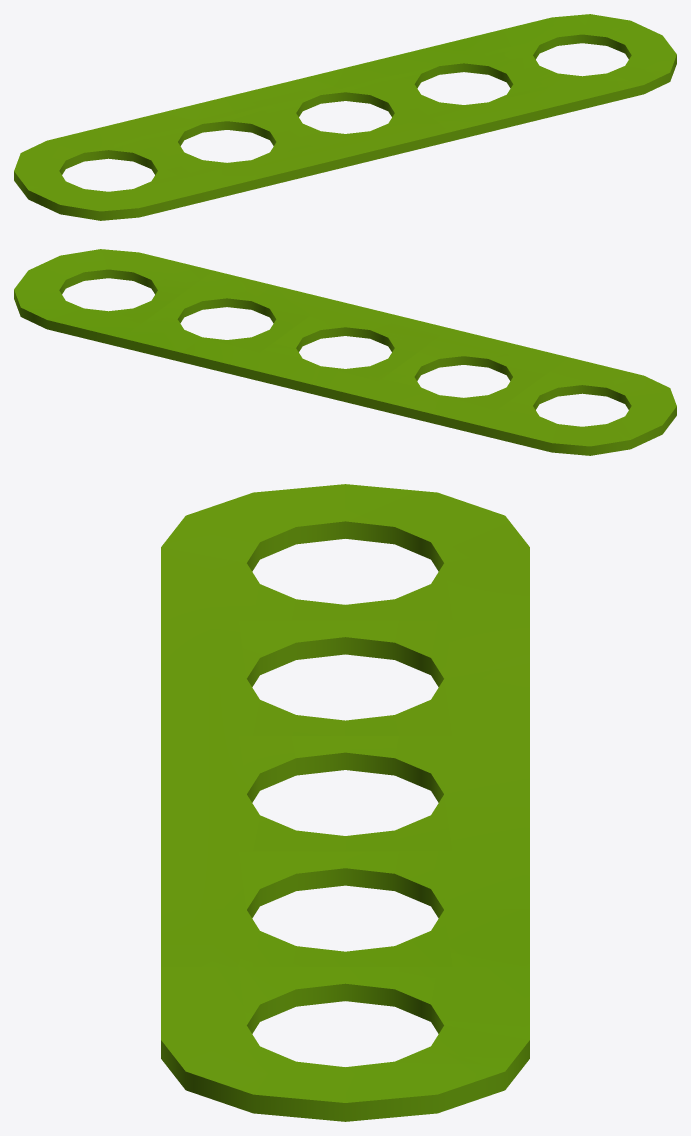
The model's file is FiveLongGreen.fbx.
3 views of the same model, one above another, from view 1: azimuth 30°, elevation 25°; view 2: azimuth 150°, elevation 25°; view 3: azimuth 270°, elevation 25° (orthographic). The views are drawn at different scales.
Visible parts, largest first — view 1: Blue5; view 2: Blue5; view 3: Blue5.
Part boxes in pixels (x1,y1,x2,y2): Blue5: [14, 14, 676, 220]; Blue5: [14, 249, 676, 455]; Blue5: [161, 484, 529, 1121].
Size of the model in its own units: 13.69 by 0.1942 by 3.45.
